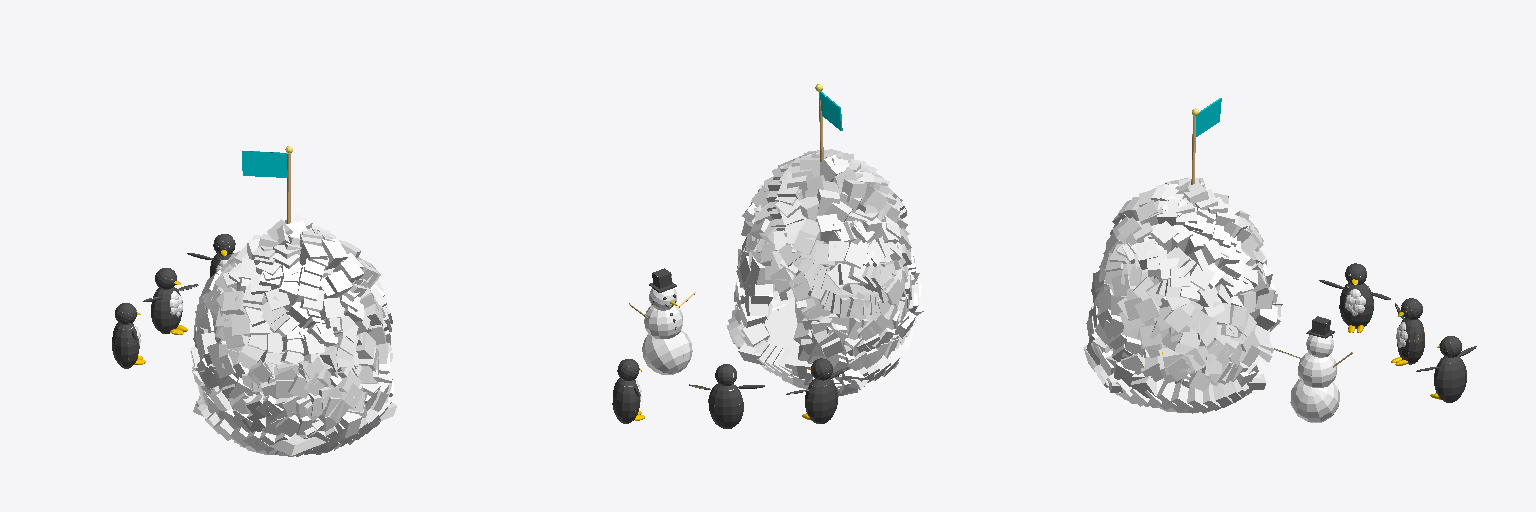
3 views of the same model, side by side, from view 1: azimuth 30°, elevation 25°; view 2: azimuth 150°, elevation 25°; view 3: azimuth 270°, elevation 25° (orthographic).
Parts seen in each view (by area): view 1: model; view 2: model; view 3: model.
Part boxes in pixels (x1,y1,x2,y2): model: (112, 146, 396, 456); model: (612, 84, 923, 428); model: (1083, 98, 1476, 422).
Bounding box in the file's own units: 2.77 × 3.61 × 4.51.
Materials: 1 (1 with a texture image).